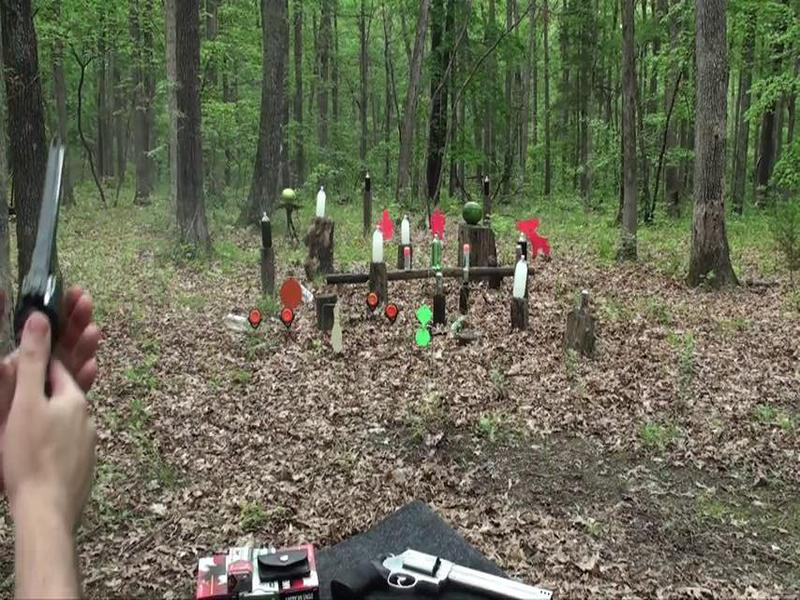Revolver: (1, 127, 100, 382)
